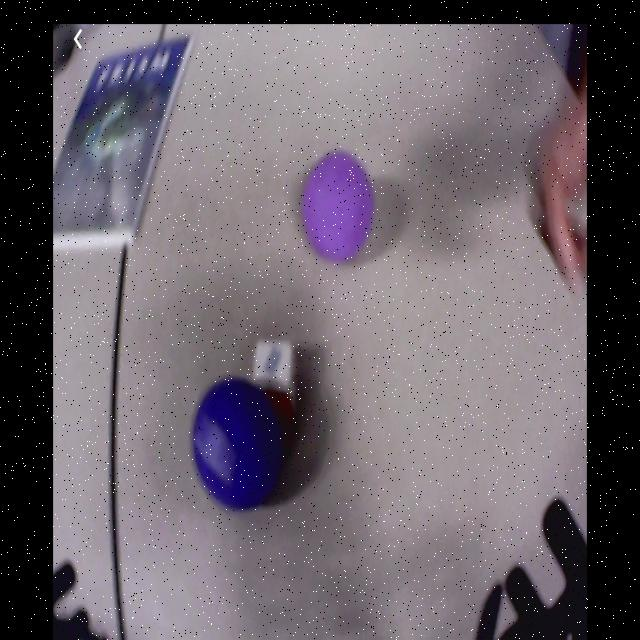ball: (192, 374, 279, 510), (299, 152, 375, 260)
